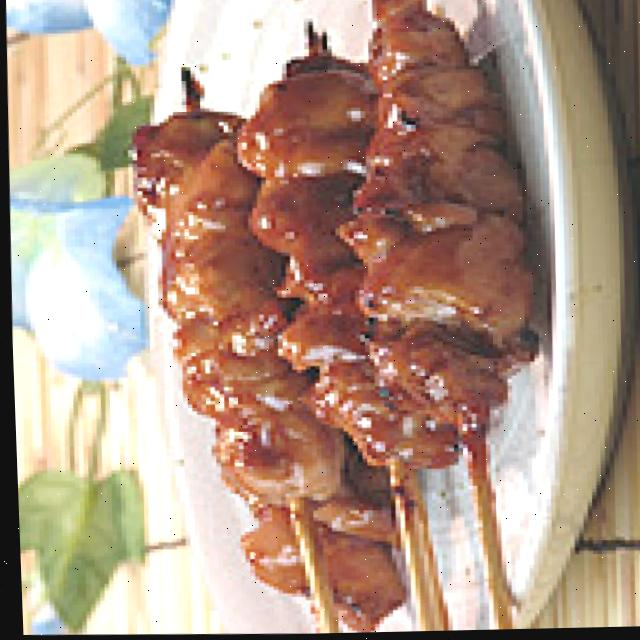烧串烤肉: (113, 0, 555, 638)
